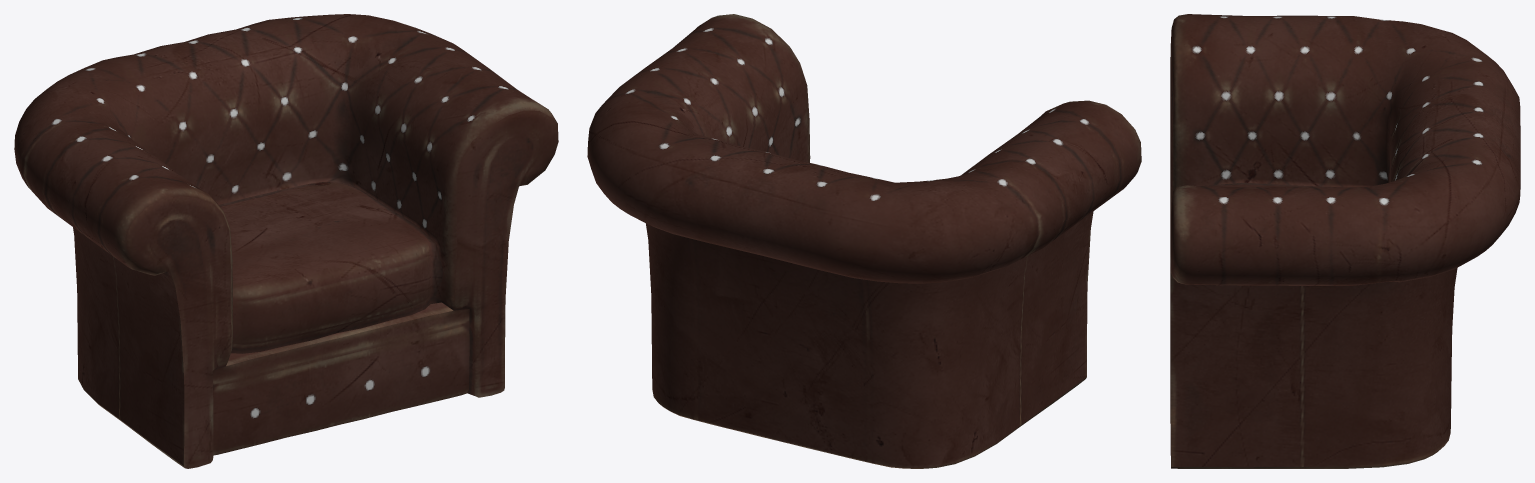
Rendered from Prop_Sofa_2.fbx.
3 views of the same model, side by side, from view 1: azimuth 30°, elevation 25°; view 2: azimuth 150°, elevation 25°; view 3: azimuth 270°, elevation 25° (orthographic).
Parts seen in each view (by area): view 1: Prop_Sofa_2; view 2: Prop_Sofa_2; view 3: Prop_Sofa_2.
Part boxes in pixels (x1,y1,x2,y2): Prop_Sofa_2: (14, 14, 558, 468); Prop_Sofa_2: (587, 14, 1141, 468); Prop_Sofa_2: (1170, 14, 1520, 468).
Bounding box in the file's own units: 70.49 × 43.28 × 47.93.
